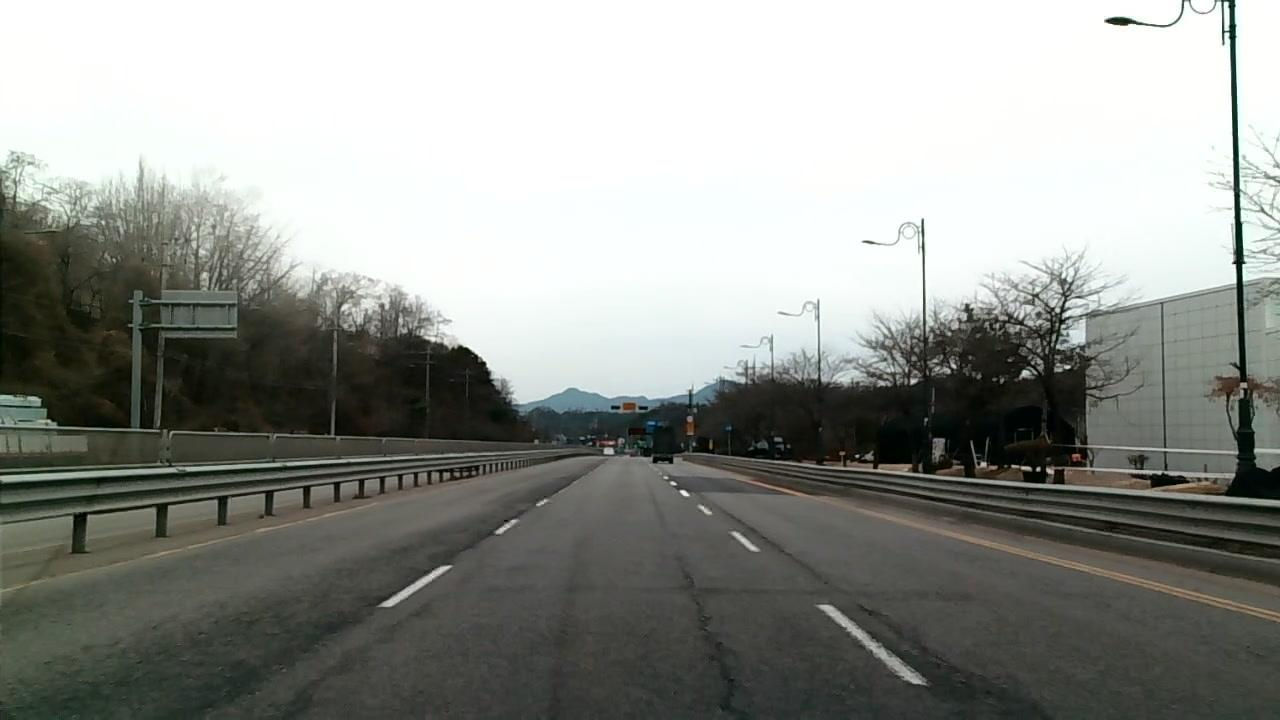erosion: (250, 573, 341, 665)
vcrack: (712, 504, 965, 665), (1, 626, 242, 720), (675, 555, 755, 720)
